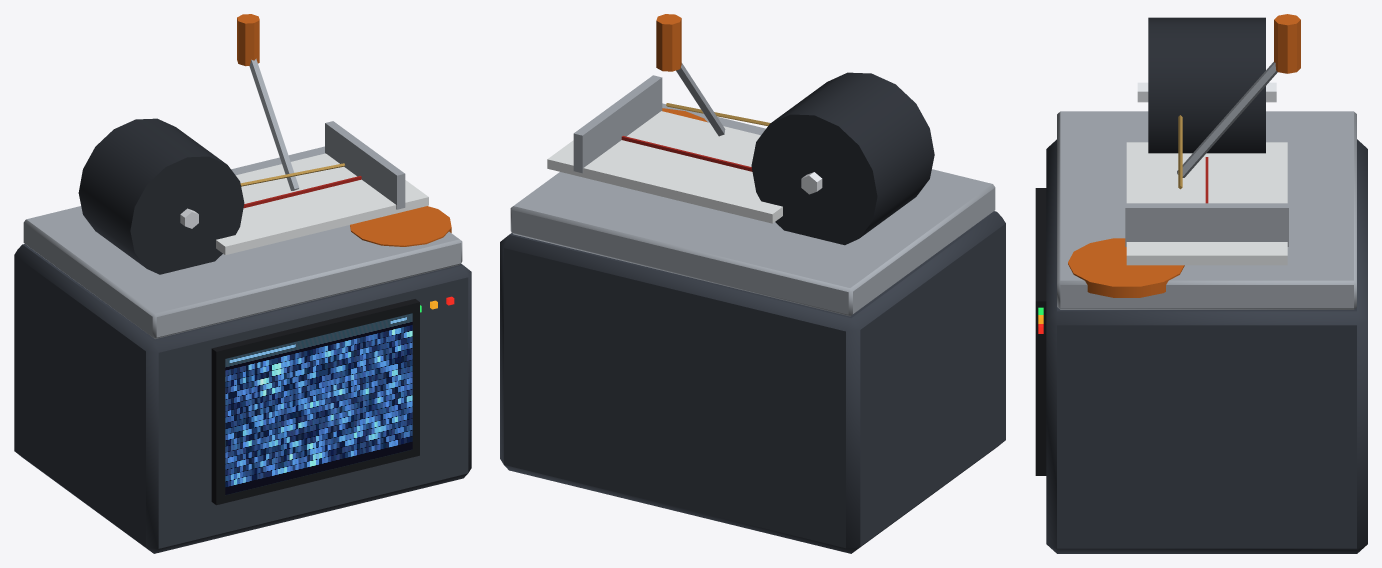
The model's file is sciinstrument_seismic_monitor.glb.
3 views of the same model, side by side, from view 1: azimuth 30°, elevation 25°; view 2: azimuth 150°, elevation 25°; view 3: azimuth 270°, elevation 25° (orthographic). The views are drawn at different scales.
Parts seen in each view (by area): view 1: sciinstrument_seismic_monitor; view 2: sciinstrument_seismic_monitor; view 3: sciinstrument_seismic_monitor.
Part boxes in pixels (x1,y1,x2,y2): sciinstrument_seismic_monitor: [14, 14, 471, 553]; sciinstrument_seismic_monitor: [500, 14, 1005, 553]; sciinstrument_seismic_monitor: [1035, 14, 1367, 553].
Bounding box in the file's own units: 0.8072 × 0.973 × 0.623.
Materials: 14 (1 with a texture image).
